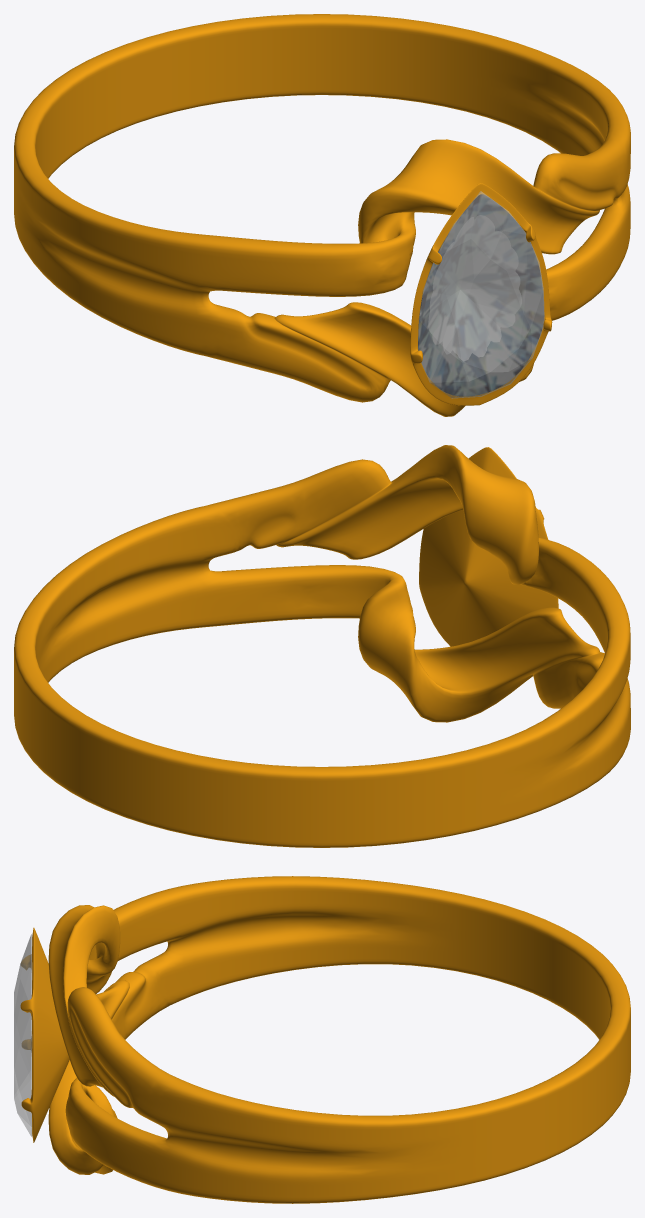
The model's file is 13506_Diamond_Ring_v1_l3.obj.
3 renders of one model, top to bottom at view 1: azimuth 30°, elevation 25°; view 2: azimuth 150°, elevation 25°; view 3: azimuth 270°, elevation 25°, orthographic. The views are drawn at different scales.
Parts seen in each view (by area): view 1: 13506_Diamond_Wedding_Ring_ring, 13506_Diamond_Wedding_Ring_diamond; view 2: 13506_Diamond_Wedding_Ring_ring; view 3: 13506_Diamond_Wedding_Ring_ring, 13506_Diamond_Wedding_Ring_diamond.
Boxes of the visible parts, x1=… form: 13506_Diamond_Wedding_Ring_ring: x1=14, y1=14, x2=630, y2=416; 13506_Diamond_Wedding_Ring_diamond: x1=418, y1=191, x2=544, y2=398; 13506_Diamond_Wedding_Ring_ring: x1=14, y1=445, x2=630, y2=847; 13506_Diamond_Wedding_Ring_ring: x1=20, y1=876, x2=630, y2=1203; 13506_Diamond_Wedding_Ring_diamond: x1=14, y1=934, x2=32, y2=1136.
Size of the model in its own units: 2.79 by 1.38 by 2.97.
Materials: 2 (1 with a texture image).
